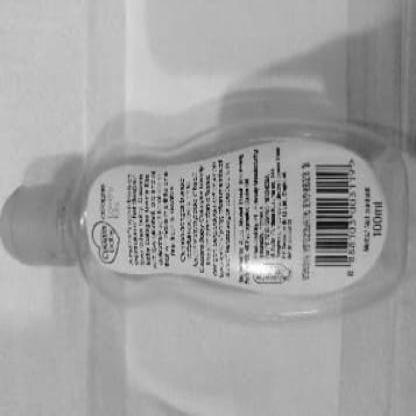objects: (1, 105, 413, 308)
